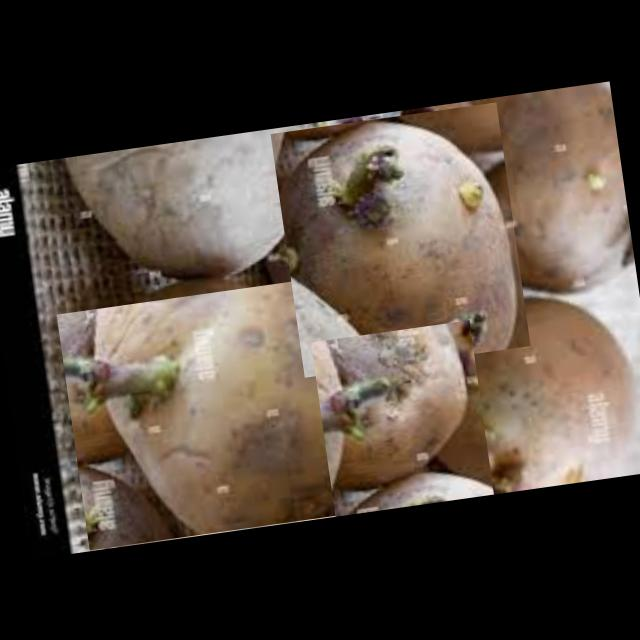Sprouted potato: (56, 272, 390, 550), (270, 102, 530, 378), (310, 320, 493, 517)
